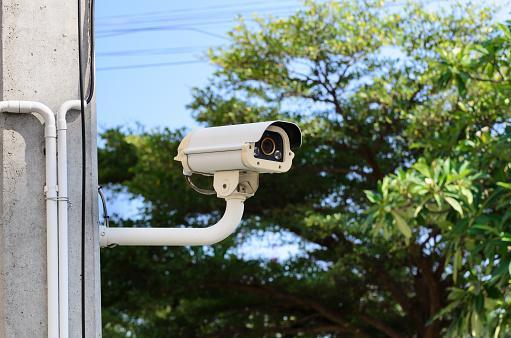camera: (169, 113, 312, 193)
